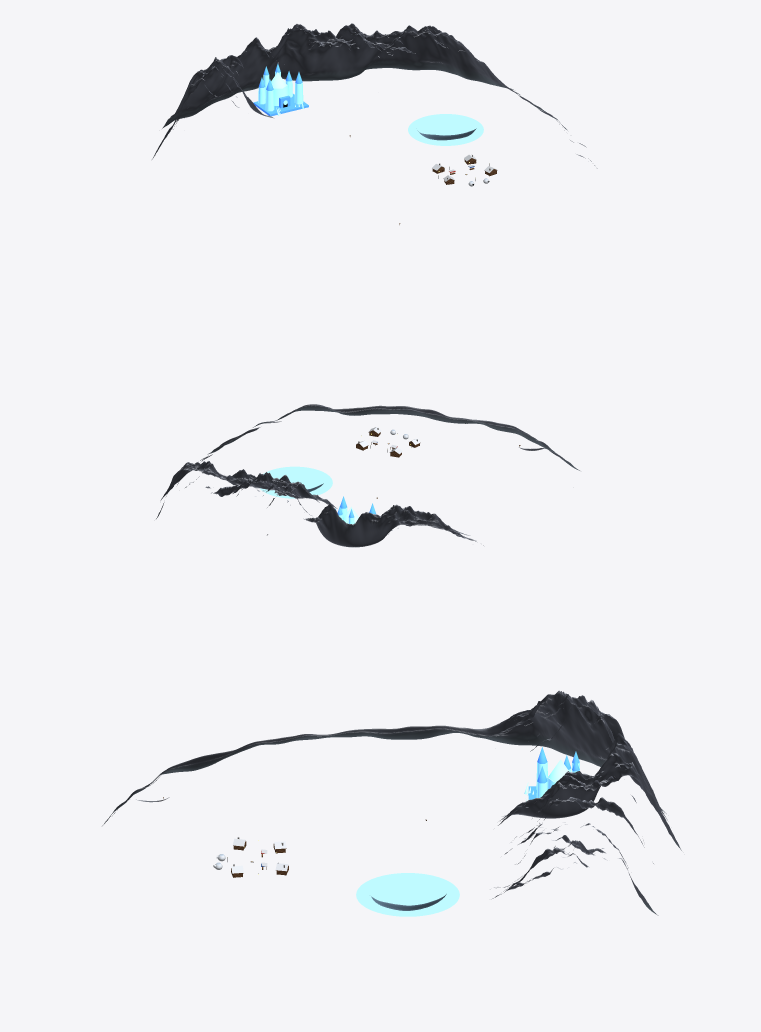
File: island_ice.glb
The picture shows the model from 3 angles, top to bottom: view 1: azimuth 30°, elevation 25°; view 2: azimuth 150°, elevation 25°; view 3: azimuth 270°, elevation 25°; orthographic projection. The views are drawn at different scales.
Parts seen in each view (by area): view 1: Terrain_ice, ice_FrozenLake, ice_IcePalace; view 2: Terrain_ice, ice_FrozenLake; view 3: Terrain_ice, ice_FrozenLake, ice_IcePalace.
Boxes of the visible parts, left/top/right/bottom form: Terrain_ice: left=152, top=23, right=597, bottom=168; ice_FrozenLake: left=408, top=114, right=483, bottom=145; ice_IcePalace: left=253, top=63, right=308, bottom=116; Terrain_ice: left=156, top=404, right=579, bottom=547; ice_FrozenLake: left=260, top=466, right=332, bottom=498; Terrain_ice: left=102, top=690, right=681, bottom=915; ice_FrozenLake: left=356, top=873, right=459, bottom=916; ice_IcePalace: left=524, top=747, right=579, bottom=801.
Bounding box in the file's own units: 480 × 80.87 × 480.
